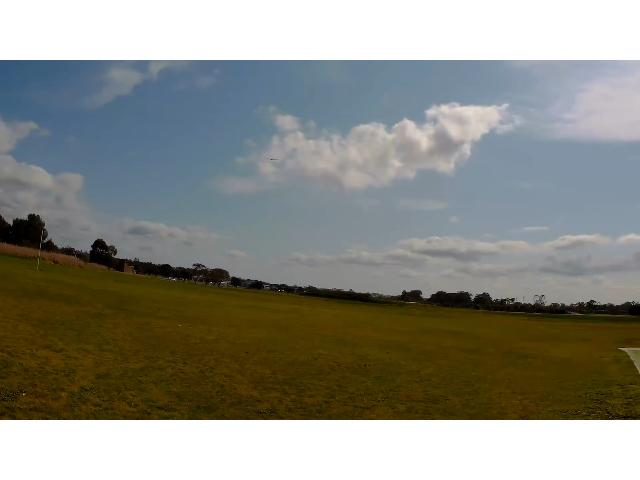Anti-Drone: (254, 145, 288, 173)
